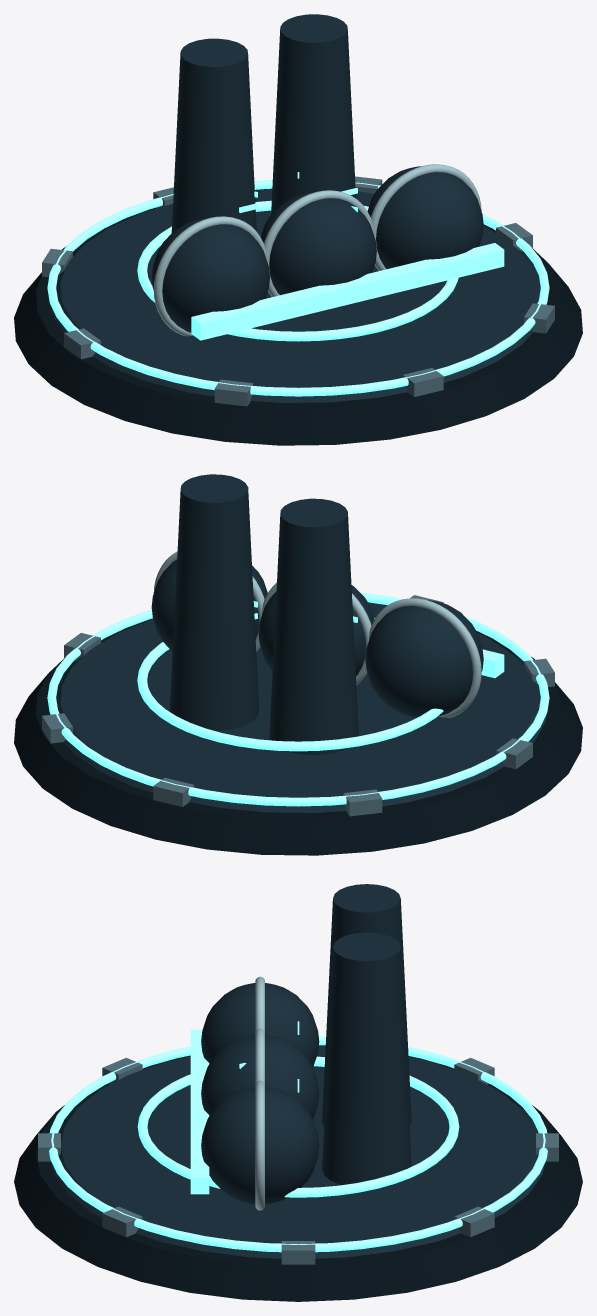
The model's file is deuteriumSynthesizer.glb.
The picture shows the model from 3 angles, top to bottom: view 1: azimuth 30°, elevation 25°; view 2: azimuth 150°, elevation 25°; view 3: azimuth 270°, elevation 25°; orthographic projection.
Parts seen in each view (by area): view 1: upper-deck, armored-foundation, cryogenic-tower (×2), pressure-vessel (×3), fuel-conduit, perimeter-light, vessel-brace (×3), detail, buttress-3, buttress-2, buttress-4, buttress-1; view 2: upper-deck, cryogenic-tower (×2), armored-foundation, pressure-vessel (×3), perimeter-light, detail, vessel-brace (×3), buttress-5, buttress-6, buttress-4, buttress-7, fuel-conduit (+2 smaller); view 3: upper-deck, armored-foundation, cryogenic-tower (×2), pressure-vessel (×3), perimeter-light, detail, fuel-conduit, vessel-brace, buttress-1, buttress-7, buttress-0, buttress-3 (+1 smaller).
Boxes of the visible parts, <box> form: upper-deck: <box>50,189,547,402</box>; armored-foundation: <box>14,188,582,445</box>; cryogenic-tower (×2): <box>171,14,355,232</box>; pressure-vessel (×3): <box>151,166,483,332</box>; fuel-conduit: <box>191,243,504,340</box>; perimeter-light: <box>47,180,549,396</box>; vessel-brace (×3): <box>153,164,481,336</box>; detail: <box>137,200,458,341</box>; buttress-3: <box>214,379,253,406</box>; buttress-2: <box>402,368,443,397</box>; buttress-4: <box>64,328,100,359</box>; buttress-1: <box>524,303,554,333</box>; upper-deck: <box>49,602,546,812</box>; cryogenic-tower (×2): <box>169,474,358,754</box>; armored-foundation: <box>14,602,582,855</box>; pressure-vessel (×3): <box>151,559,483,717</box>; perimeter-light: <box>47,590,549,806</box>; detail: <box>137,618,443,751</box>; vessel-brace (×3): <box>153,551,481,717</box>; buttress-5: <box>343,789,382,816</box>; buttress-6: <box>153,777,194,806</box>; buttress-4: <box>496,738,532,769</box>; buttress-7: <box>42,713,72,743</box>; fuel-conduit: <box>481,649,504,678</box>; upper-deck: <box>51,1045,545,1258</box>; armored-foundation: <box>14,1045,582,1301</box>; cryogenic-tower (×2): <box>322,884,411,1185</box>; pressure-vessel (×3): <box>201,983,319,1204</box>; perimeter-light: <box>49,1036,547,1252</box>; detail: <box>137,1056,459,1197</box>; fuel-conduit: <box>190,1029,209,1194</box>; vessel-brace: <box>255,1080,264,1210</box>; buttress-1: <box>102,1206,142,1237</box>; buttress-7: <box>454,1206,494,1237</box>; buttress-0: <box>281,1241,315,1264</box>; buttress-3: <box>102,1057,142,1084</box>.
Size of the model in its own units: 10.4 by 5.23 by 10.4.
